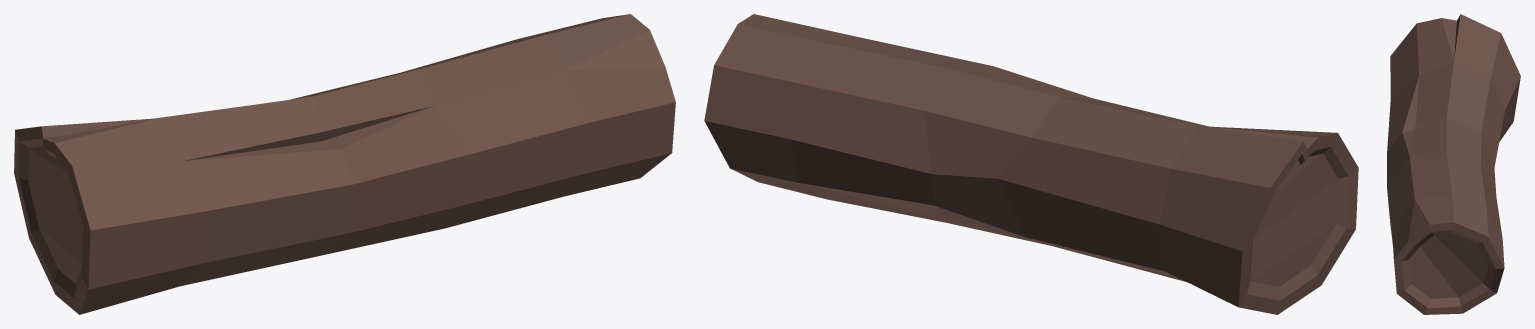
The model's file is WoodLog.glb.
3 renders of one model, left to right at view 1: azimuth 30°, elevation 25°; view 2: azimuth 150°, elevation 25°; view 3: azimuth 270°, elevation 25°, orthographic. The views are drawn at different scales.
Parts seen in each view (by area): view 1: WoodLog; view 2: WoodLog; view 3: WoodLog.
Part boxes in pixels (box(x1,y1,x2,y2)): WoodLog: box(14, 14, 675, 314); WoodLog: box(704, 14, 1358, 314); WoodLog: box(1387, 14, 1520, 314).
Size of the model in its own units: 0.9422 by 0.2734 by 0.2773.
